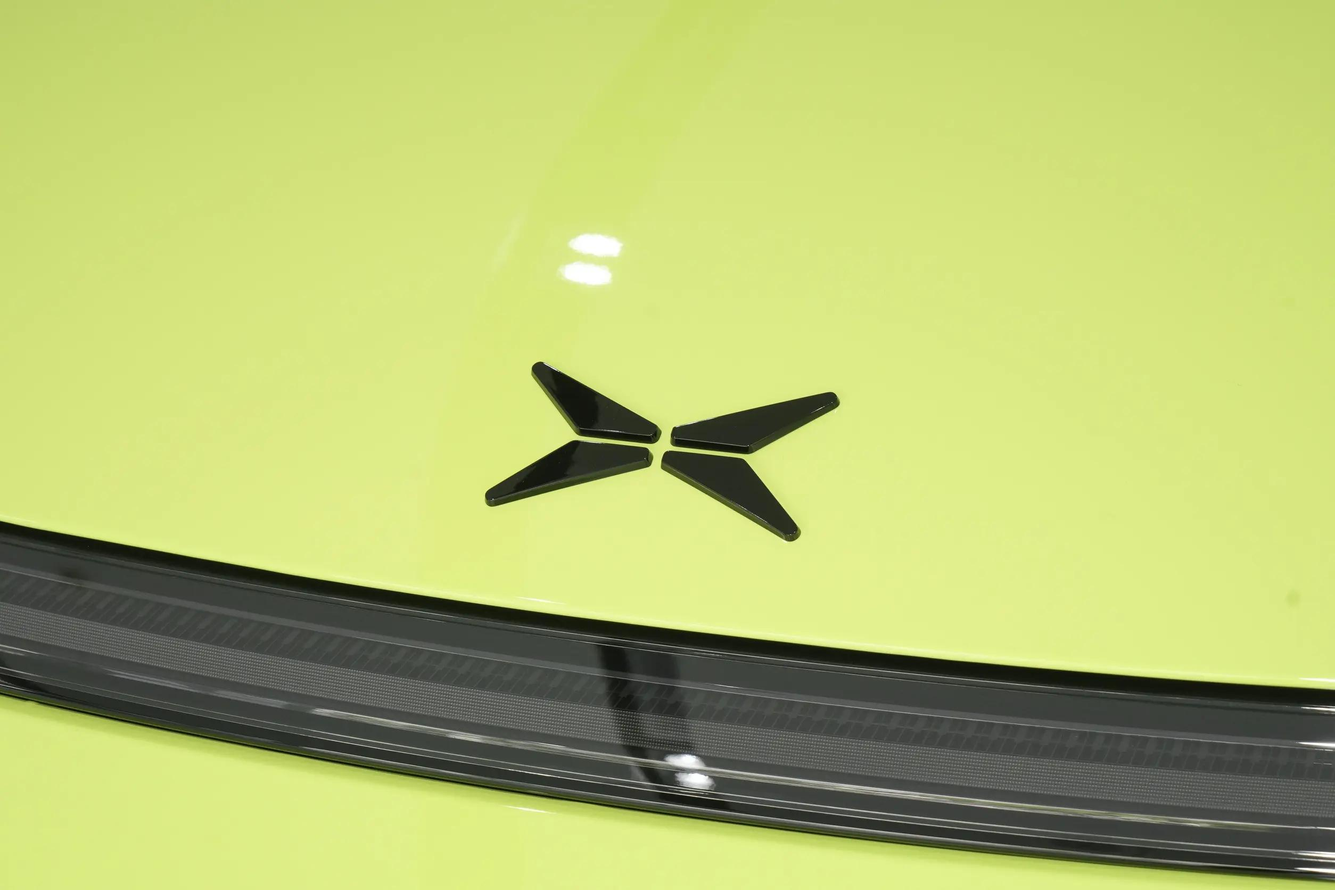XPeng Motors: (484, 361, 840, 541)
